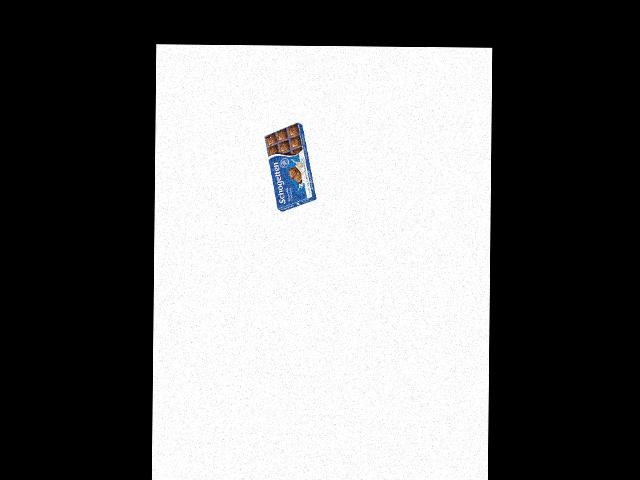chocolate: (263, 121, 310, 213)
